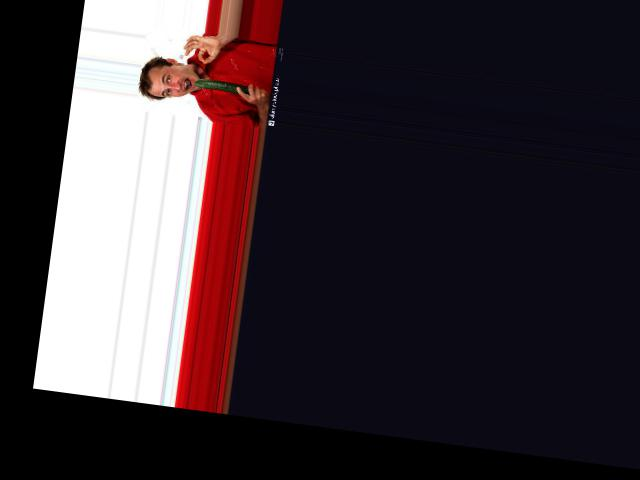cucumber: (194, 78, 249, 93)
